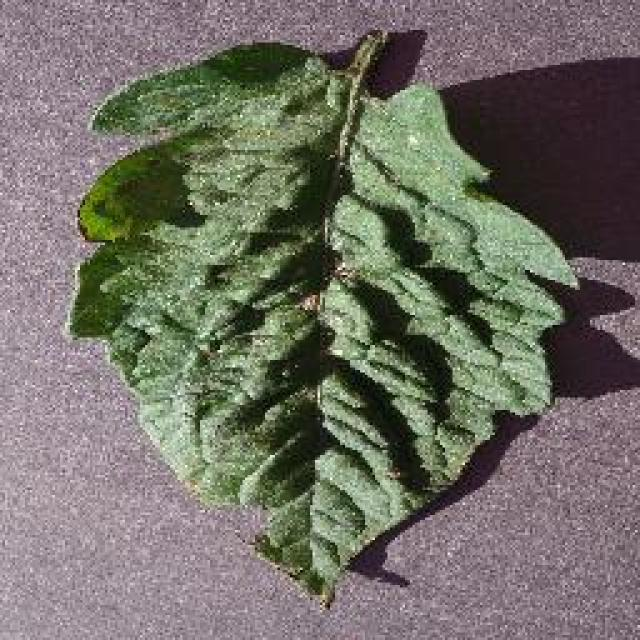Tomato___Target_Spot: (68, 32, 578, 600)
